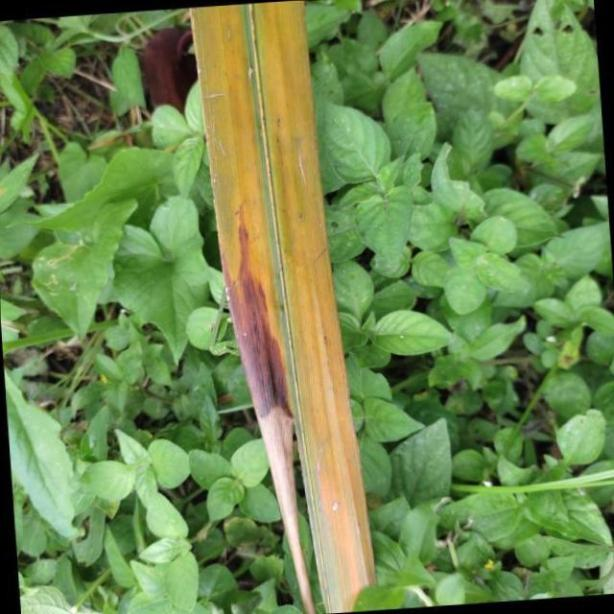Megnesium: (189, 0, 380, 614)
